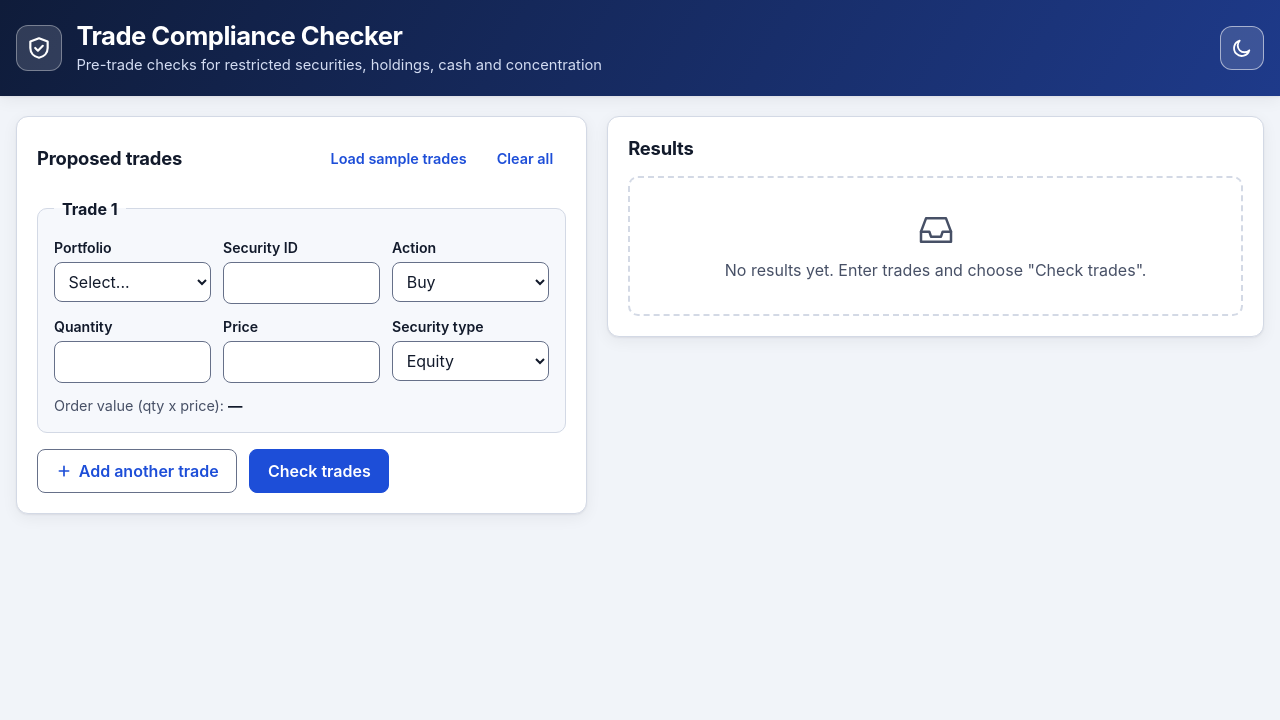
it: form validation › emptySubmit_showsFieldErrors_andDoesNotCallApi
Step 1. Click the button "Check trades" → click(319, 472), box [249,450,389,494]
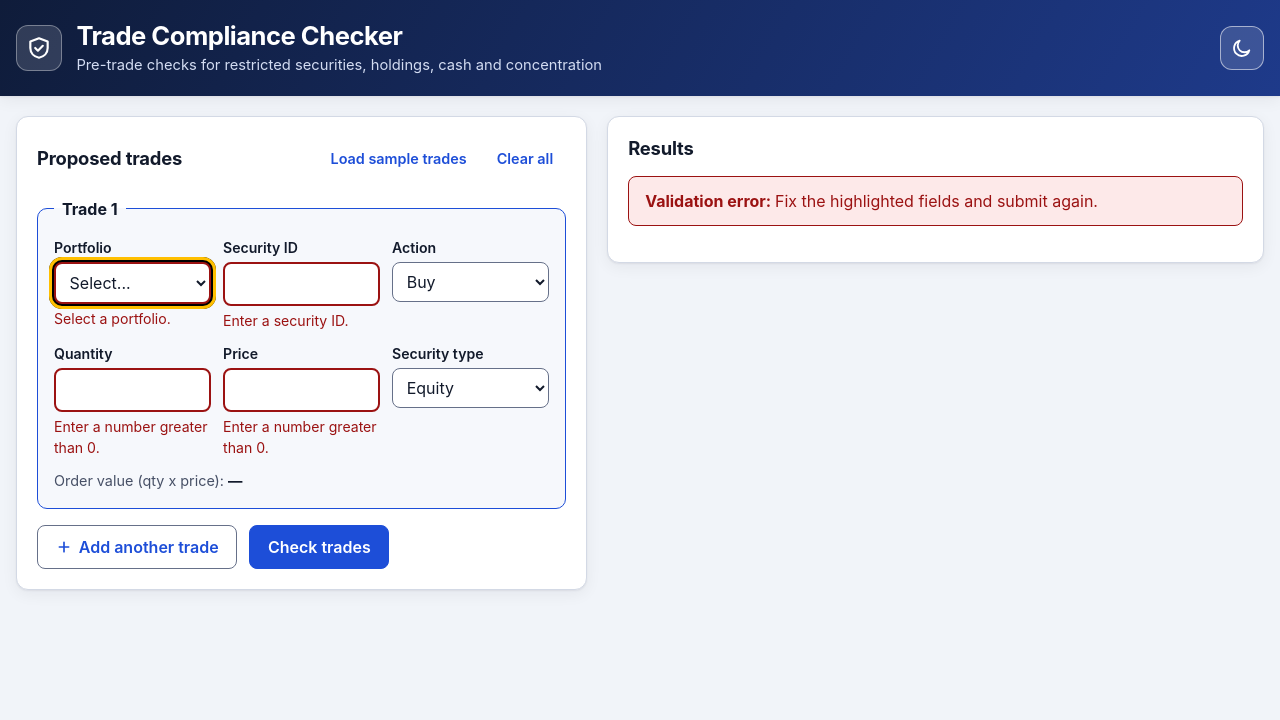
Now the text "Select a portfolio." is shown, box [54,310,171,327]
Now the text "Enter a security ID." is shown, box [223,312,349,329]
Now the text "Enter a number greater than 0." is shown 2 times, box [54,416,211,458]; [223,416,380,458]
